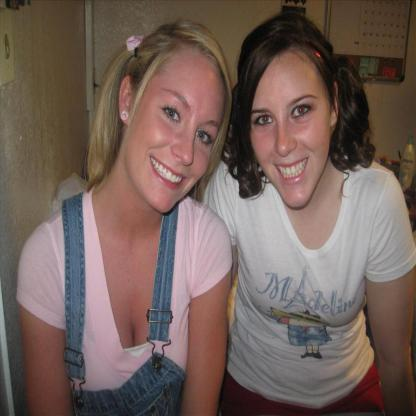face: (129, 57, 227, 215), (250, 53, 331, 207)
